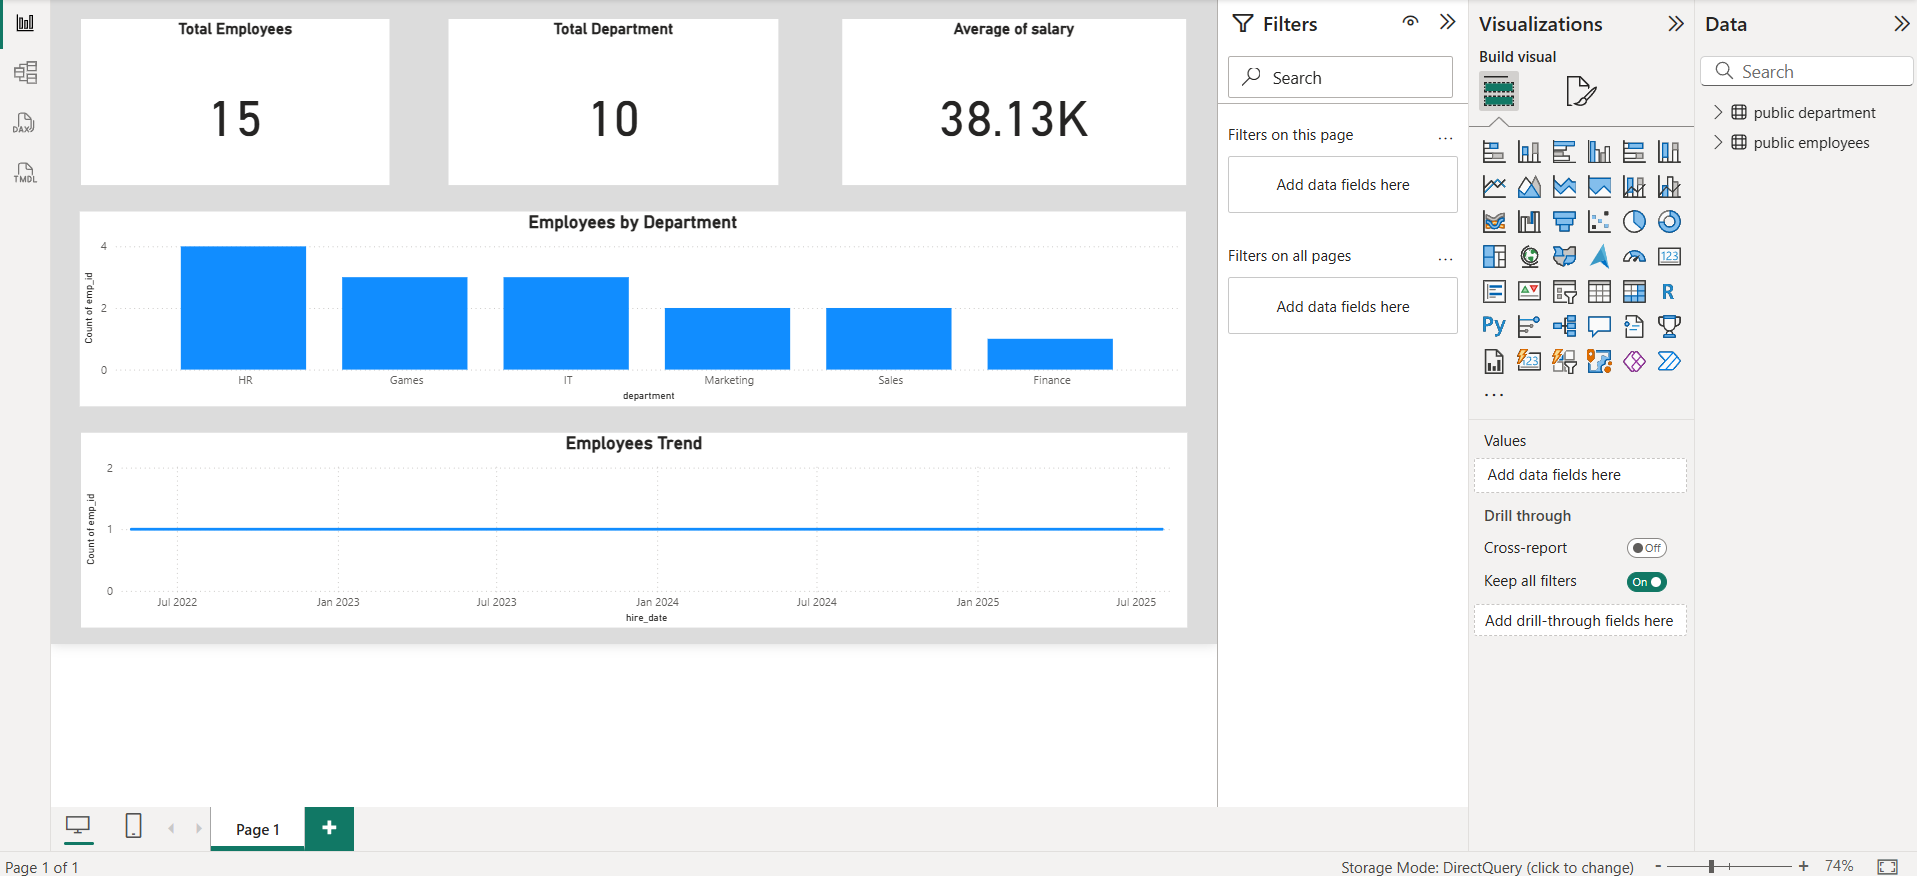

The dashboard page shown, as its layout file describes it:
{"tool":"powerbi","page":{"name":"Page 1","canvas":[1264,700],"ordinal":0},"visuals":[{"type":"card","title":"Total Employees","fields":{"Values":["CountNonNull(public employees.emp_id)"]},"box":[32.5,21.7,334.7,180.2],"z":0},{"type":"card","title":"Total Department","fields":{"Values":["CountNonNull(public department.dpt_id)"]},"box":[430.9,21.7,357.7,180.2],"z":1},{"type":"card","title":"Average of salary","fields":{"Values":["Avg(public employees.salary)"]},"box":[857.8,21.7,372.6,180.2],"z":2},{"type":"columnChart","title":"Employees by Department","fields":{"Category":["public employees.department"],"Y":["CountNonNull(public employees.emp_id)"]},"box":[31.2,230.4,1199.2,211.4],"z":3},{"type":"lineChart","title":"Employees Trend","fields":{"Y":["CountNonNull(public employees.emp_id)"],"Category":["public employees.hire_date"]},"box":[32.5,470.2,1199.2,211.4],"z":4}]}

Visuals, with their boxes on the page's 1264x700 design canvas (x1, y1, x2, y2). These are canvas units, not pixel positions in the 1917x876 screenshot, which may show the page scaled, cropped or inside an application window:
"Total Employees" card: (left=32, top=22, right=367, bottom=202)
"Total Department" card: (left=431, top=22, right=789, bottom=202)
"Average of salary" card: (left=858, top=22, right=1230, bottom=202)
"Employees by Department" columnChart: (left=31, top=230, right=1230, bottom=442)
"Employees Trend" lineChart: (left=32, top=470, right=1232, bottom=682)
